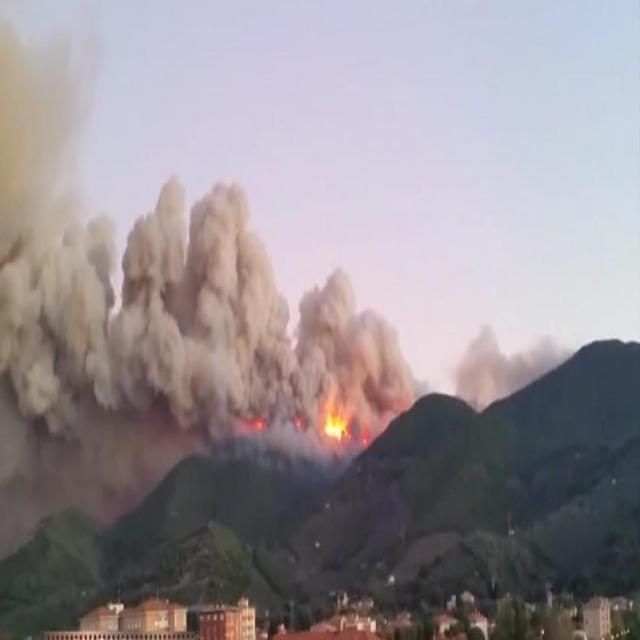Fire: (320, 398, 352, 452)
